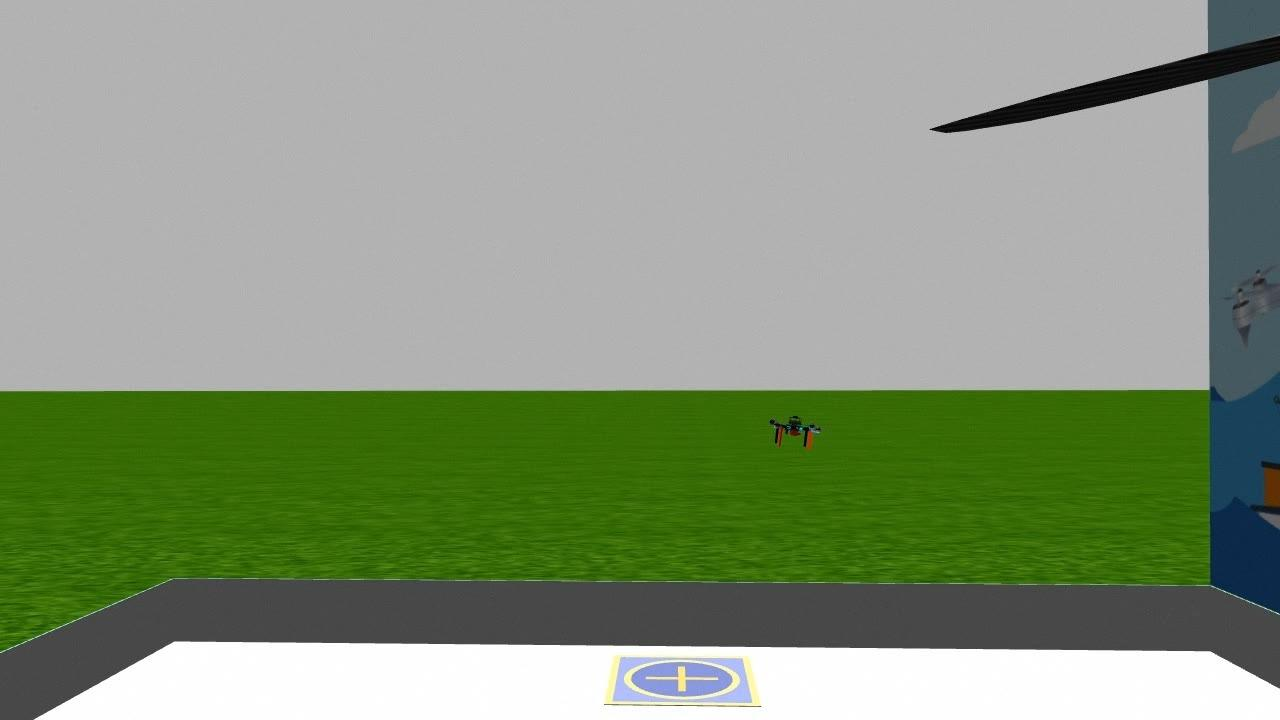UAV: (741, 391, 848, 460)
